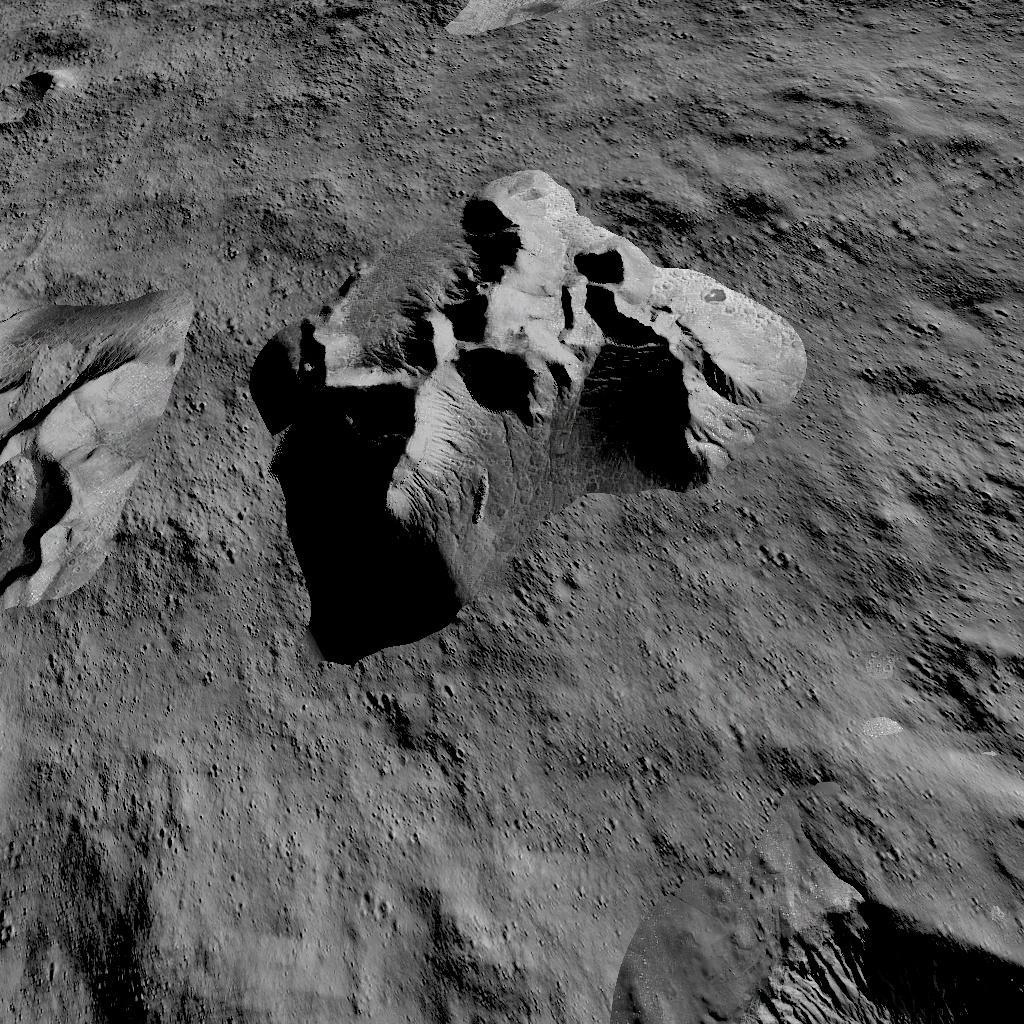Boulders: (245, 158, 809, 670), (4, 269, 188, 626)
Crater: (629, 857, 1024, 1024), (913, 618, 1024, 772), (81, 953, 155, 1024), (8, 52, 73, 112)
Plan surface: (185, 693, 598, 1024), (93, 2, 1024, 132), (829, 152, 1024, 574), (6, 636, 168, 912), (625, 695, 897, 839), (6, 148, 232, 256)
